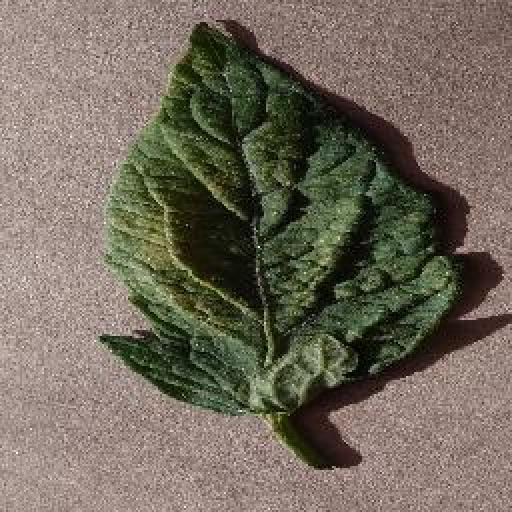disease_tomato: (97, 23, 456, 413)
